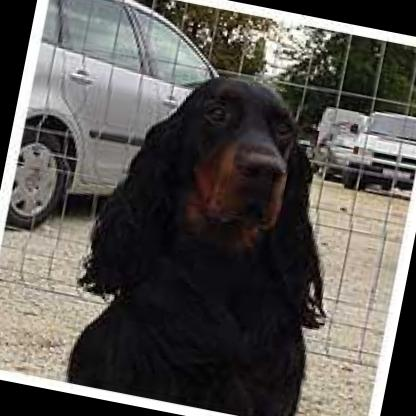Gordon_setter: (55, 45, 369, 416)
